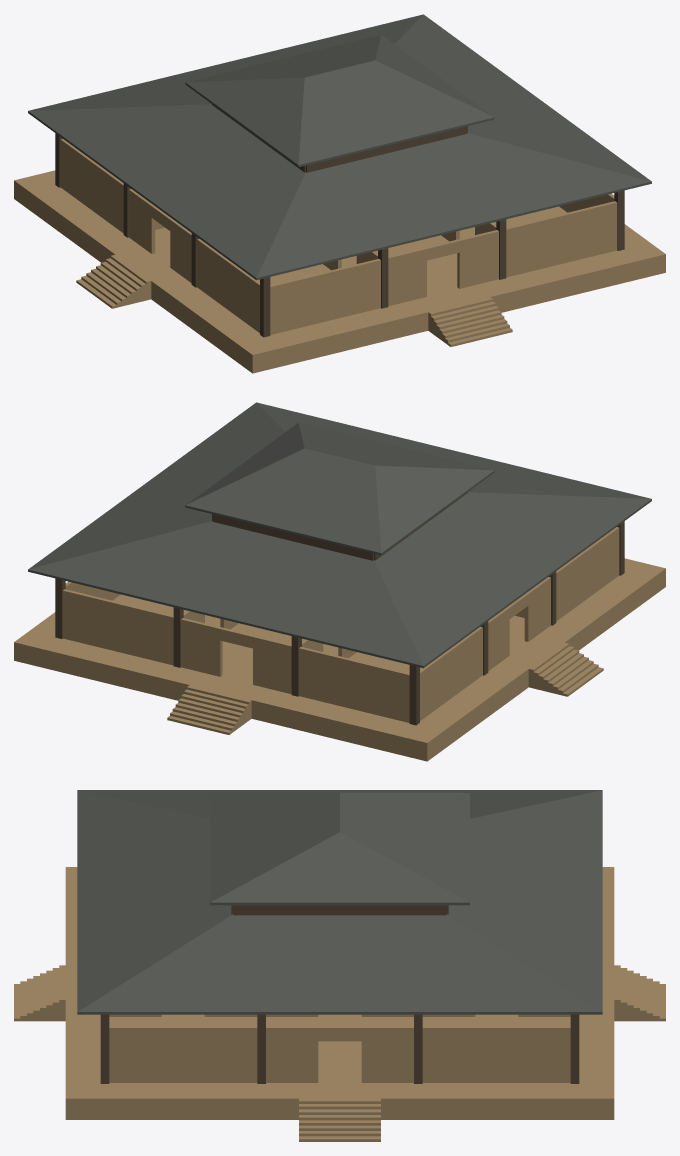
File: mingtang-A-LOD2.glb
3 views of the same model, one above another, from view 1: azimuth 30°, elevation 25°; view 2: azimuth 150°, elevation 25°; view 3: azimuth 270°, elevation 25° (orthographic). The views are drawn at different scales.
Visible parts, largest first — view 1: mingtang-A-static_tile, mingtang-A-static_earth, mingtang-A-static_timber; view 2: mingtang-A-static_tile, mingtang-A-static_earth, mingtang-A-static_timber; view 3: mingtang-A-static_tile, mingtang-A-static_earth, mingtang-A-static_timber.
Boxes of the visible parts, x1,y1,x2,y2 form: mingtang-A-static_tile: (28,14,651,280); mingtang-A-static_earth: (14,139,665,373); mingtang-A-static_timber: (55,104,624,337); mingtang-A-static_tile: (28,402,651,668); mingtang-A-static_earth: (14,527,665,761); mingtang-A-static_timber: (55,492,624,725); mingtang-A-static_tile: (77,790,602,1014); mingtang-A-static_earth: (14,867,665,1141); mingtang-A-static_timber: (100,905,579,1083).
Size of the model in its own units: 33.28 by 10.8 by 33.28.
